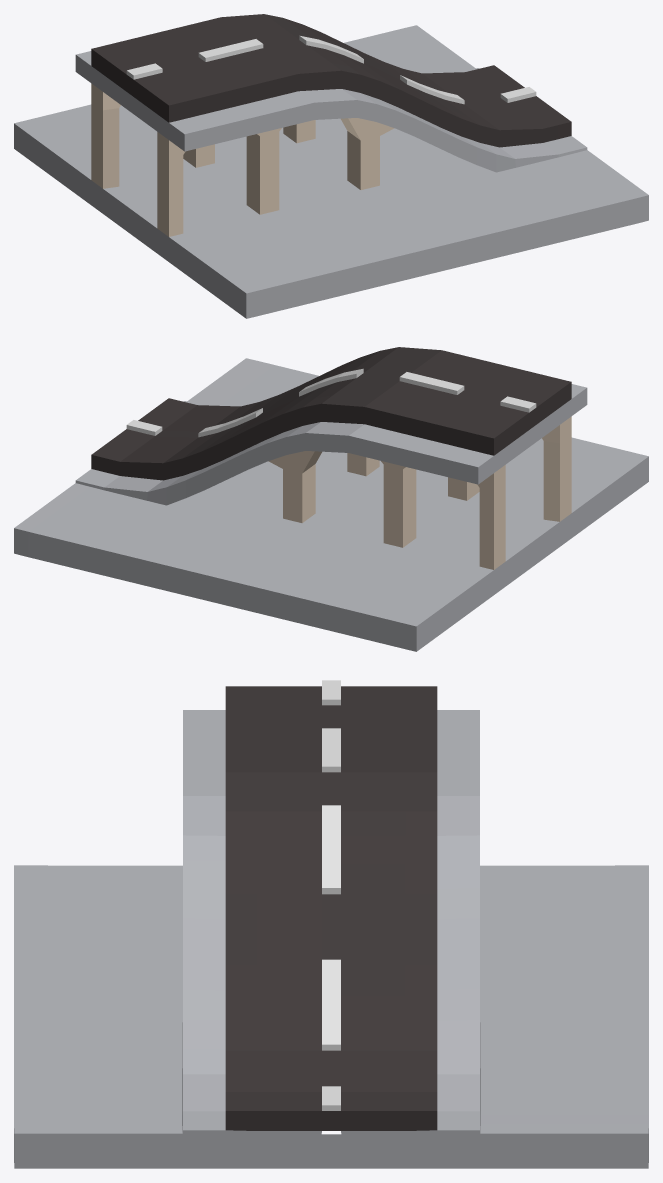
The model's file is street_bridge_ramp.glb.
3 renders of one model, top to bottom at view 1: azimuth 30°, elevation 25°; view 2: azimuth 150°, elevation 25°; view 3: azimuth 270°, elevation 25°, orthographic. The views are drawn at different scales.
Visible parts, largest first — view 1: Street_Bridge_Ramp; view 2: Street_Bridge_Ramp; view 3: Street_Bridge_Ramp.
Boxes of the visible parts, left/top/right/bottom form: Street_Bridge_Ramp: left=14, top=14, right=648, bottom=318; Street_Bridge_Ramp: left=14, top=347, right=648, bottom=651; Street_Bridge_Ramp: left=14, top=680, right=648, bottom=1168.
Bounding box in the file's own units: 8 × 3.06 × 8.
